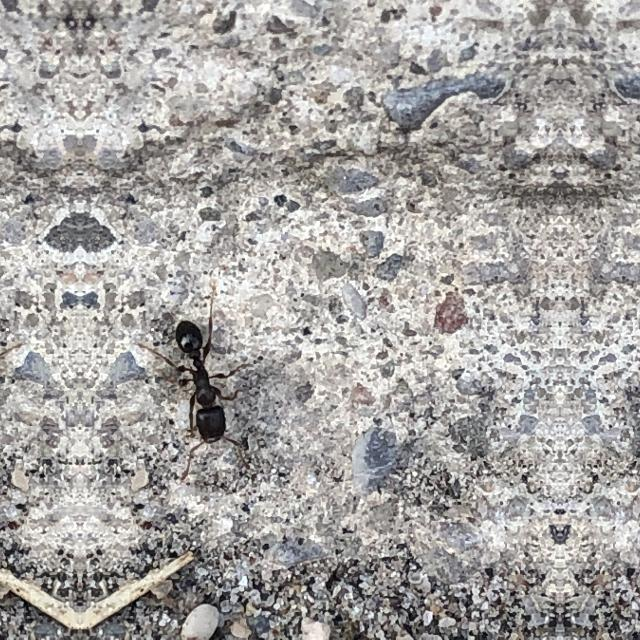Tetramorium: (154, 300, 266, 470)
